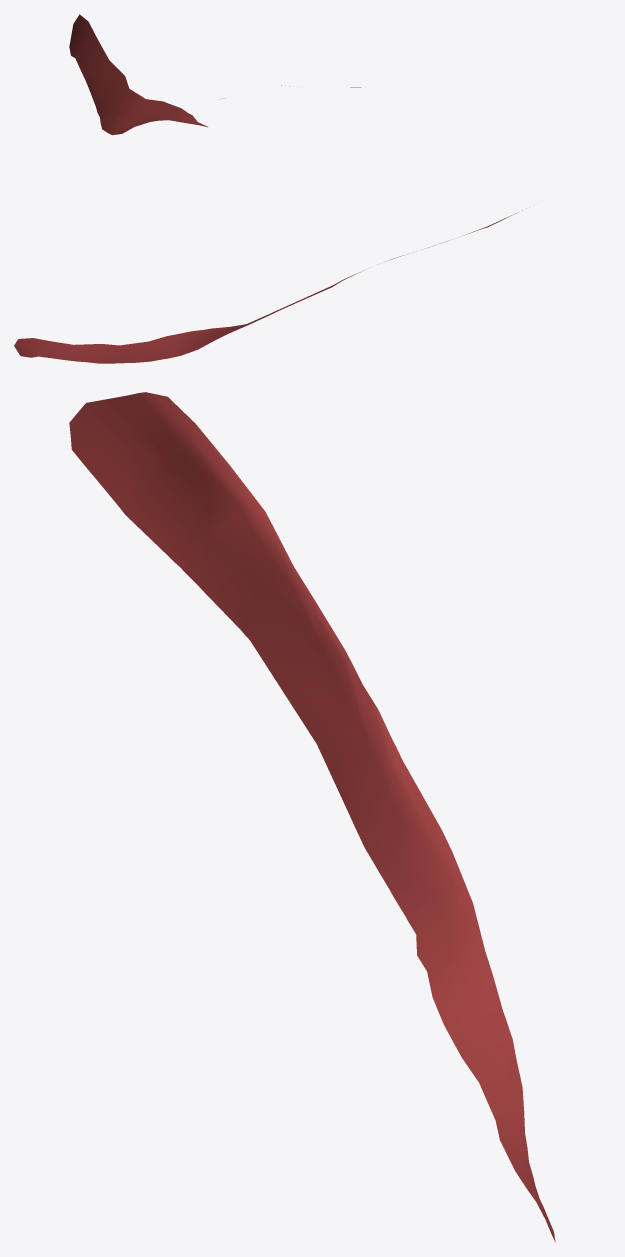
The model's file is descending-part-of-trapezius-muscle-or.glb.
3 views of the same model, one above another, from view 1: azimuth 90°, elevation 25°; view 2: azimuth 150°, elevation 25°; view 3: azimuth 270°, elevation 25° (orthographic). The views are drawn at different scales.
Parts seen in each view (by area): view 1: Descending part of trapezius muscle.or; view 2: Descending part of trapezius muscle.or; view 3: Descending part of trapezius muscle.or.
Boxes of the visible parts, x1,y1,x2,y2 form: Descending part of trapezius muscle.or: (69, 14, 360, 135); Descending part of trapezius muscle.or: (14, 208, 526, 363); Descending part of trapezius muscle.or: (69, 392, 555, 1242).
Bounding box in the file's own units: 0.0711 × 0.029 × 0.0314.
